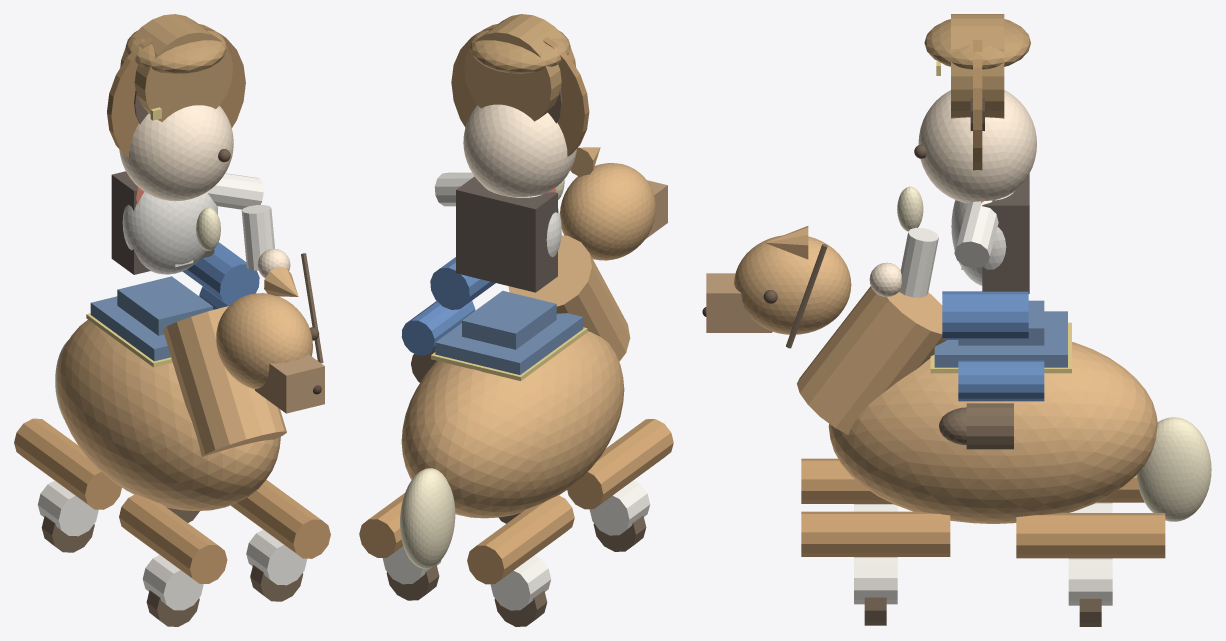
The model's file is vaquero_poni.glb.
3 views of the same model, side by side, from view 1: azimuth 30°, elevation 25°; view 2: azimuth 150°, elevation 25°; view 3: azimuth 270°, elevation 25° (orthographic). The views are drawn at different scales.
Visible parts, largest first — view 1: Caballo_Cuerpo, Caballo_Cuello, Vaquero_Cabeza, Caballo_Cabeza, Vaquero_Sombrero_Copa, Vaquero_Camisa, Caballo_Pata_Tra_Izq, Caballo_Pata_Del_Izq, Caballo_Pata_Tra_Der, Vaquero_Sombrero_Ala, Silla_Asiento, Caballo_Hocico (+17 smaller); view 2: Caballo_Cuerpo, Vaquero_Chaleco, Vaquero_Cabeza, Caballo_Cabeza, Vaquero_Sombrero_Copa, Caballo_Cuello, Caballo_Pata_Del_Izq, Caballo_Pata_Tra_Izq, Caballo_Cola, Silla_Manta, Silla_Asiento, Vaquero_Sombrero_Ala (+16 smaller); view 3: Caballo_Cuerpo, Caballo_Cuello, Vaquero_Cabeza, Caballo_Cabeza, Caballo_Pata_Tra_Der, Caballo_Pata_Del_Der, Caballo_Cola, Vaquero_Muslo, Vaquero_Sombrero_Copa, Vaquero_Pantorrilla, Vaquero_Chaleco, Silla_Manta (+16 smaller).
Boxes of the visible parts, x1=… form: Caballo_Cuerpo: x1=56, y1=320, x2=280, y2=510; Caballo_Cuello: x1=163, y1=306, x2=286, y2=456; Vaquero_Cabeza: x1=119, y1=105, x2=233, y2=201; Caballo_Cabeza: x1=216, y1=293, x2=312, y2=389; Vaquero_Sombrero_Copa: x1=120, y1=14, x2=232, y2=122; Vaquero_Camisa: x1=122, y1=192, x2=217, y2=274; Caballo_Pata_Tra_Izq: x1=119, y1=494, x2=227, y2=583; Caballo_Pata_Del_Izq: x1=14, y1=418, x2=121, y2=509; Caballo_Pata_Tra_Der: x1=231, y1=480, x2=330, y2=558; Vaquero_Sombrero_Ala: x1=107, y1=25, x2=245, y2=157; Silla_Asiento: x1=117, y1=276, x2=212, y2=335; Caballo_Hocico: x1=255, y1=354, x2=324, y2=413; Caballo_Cuerpo: x1=401, y1=331, x2=624, y2=518; Vaquero_Chaleco: x1=456, y1=176, x2=557, y2=292; Vaquero_Cabeza: x1=463, y1=104, x2=576, y2=196; Caballo_Cabeza: x1=560, y1=163, x2=655, y2=260; Vaquero_Sombrero_Copa: x1=464, y1=14, x2=575, y2=121; Caballo_Cuello: x1=508, y1=235, x2=630, y2=361; Caballo_Pata_Del_Izq: x1=467, y1=495, x2=574, y2=584; Caballo_Pata_Tra_Izq: x1=567, y1=419, x2=673, y2=509; Caballo_Cola: x1=400, y1=468, x2=455, y2=568; Silla_Manta: x1=435, y1=313, x2=583, y2=374; Silla_Asiento: x1=462, y1=290, x2=556, y2=349; Vaquero_Sombrero_Ala: x1=451, y1=25, x2=589, y2=156; Caballo_Cuerpo: x1=828, y1=342, x2=1157, y2=523; Caballo_Cuello: x1=797, y1=286, x2=946, y2=434; Vaquero_Cabeza: x1=918, y1=90, x2=1036, y2=203; Caballo_Cabeza: x1=734, y1=235, x2=851, y2=334; Caballo_Pata_Tra_Der: x1=801, y1=511, x2=950, y2=556; Caballo_Pata_Del_Der: x1=1016, y1=513, x2=1165, y2=558; Caballo_Cola: x1=1136, y1=417, x2=1211, y2=521; Vaquero_Muslo: x1=942, y1=291, x2=1028, y2=339; Vaquero_Sombrero_Copa: x1=951, y1=14, x2=1004, y2=118; Vaquero_Pantorrilla: x1=958, y1=360, x2=1044, y2=401; Vaquero_Chaleco: x1=982, y1=173, x2=1029, y2=293; Silla_Manta: x1=934, y1=311, x2=1067, y2=367.
Bounding box in the file's own units: 1.34 × 4.07 × 3.25.
